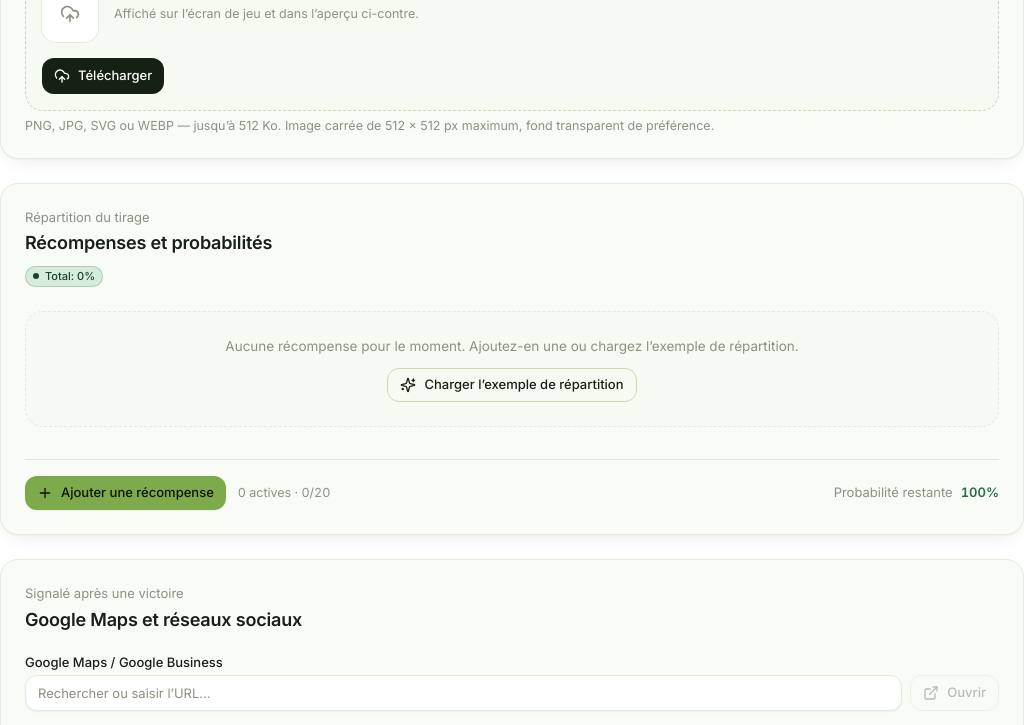
wheel configuration page › shows an empty distribution for a campaign without rewards and can load the example
The width and height of the screenshot is (1024, 725).
(page scrolled)
Check: the element with test id "rewards-empty" is shown, box [25, 311, 999, 427]
Click the button "Charger l’exemple de répartition" at (512, 385), box [387, 368, 636, 402]
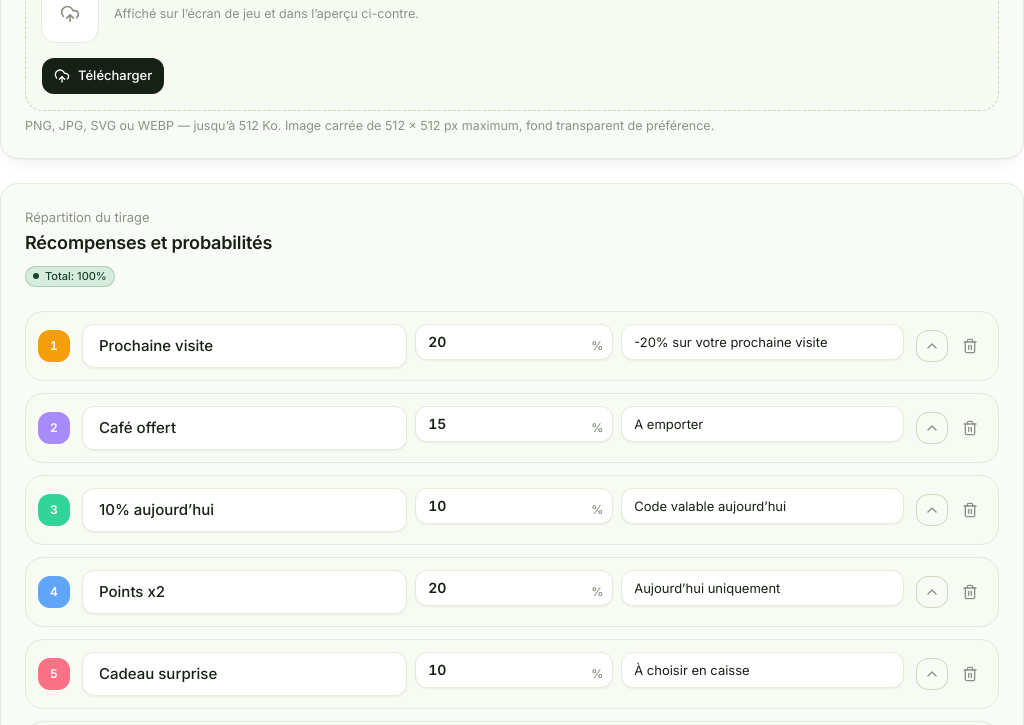
Check: the element with test id "rewards-empty" is gone
Check: the number field named "Probabilité de Café offert" is shown, box [415, 406, 613, 442]
